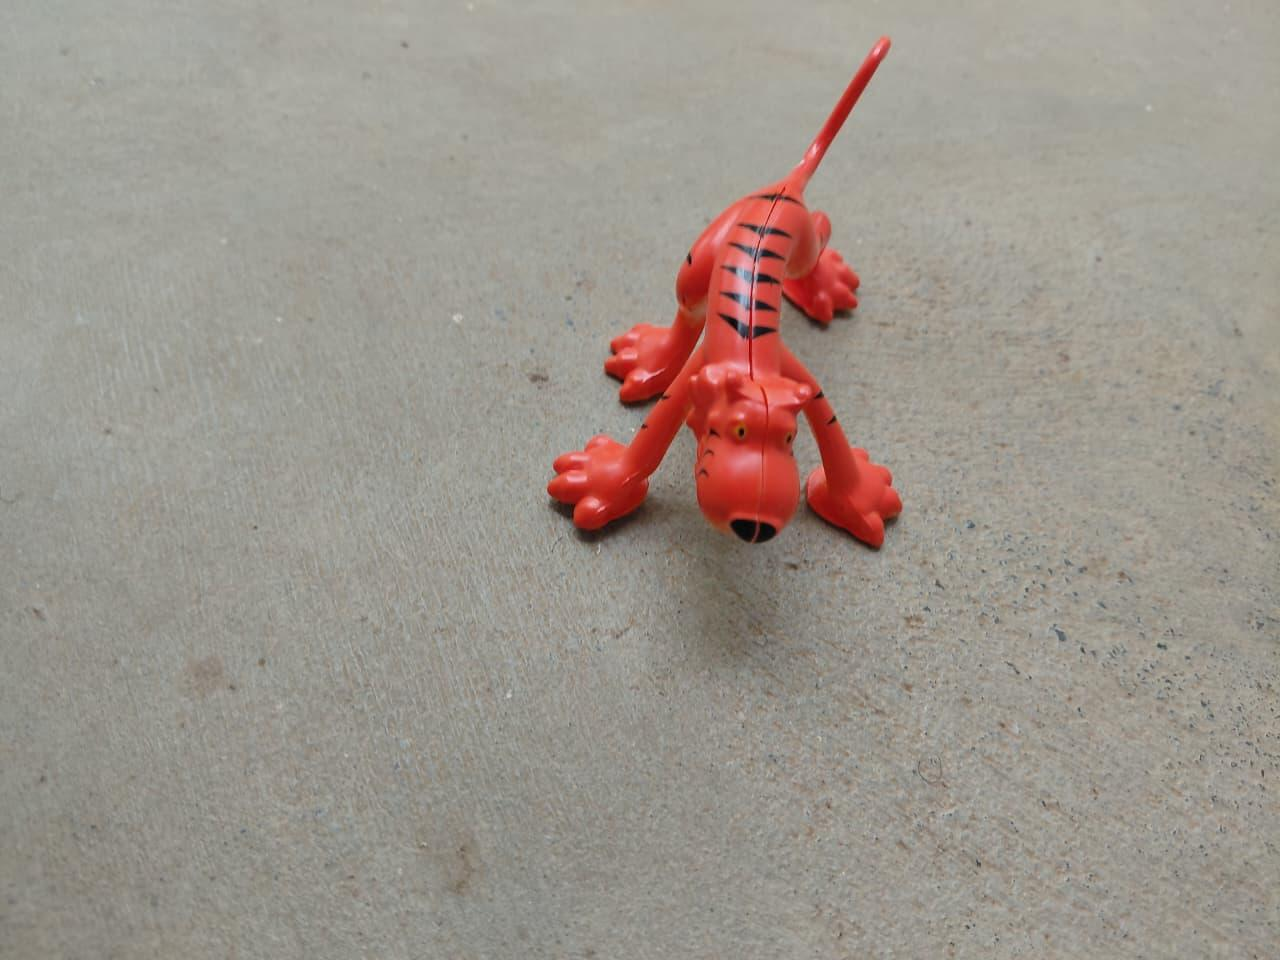tiger: (536, 32, 912, 567)
